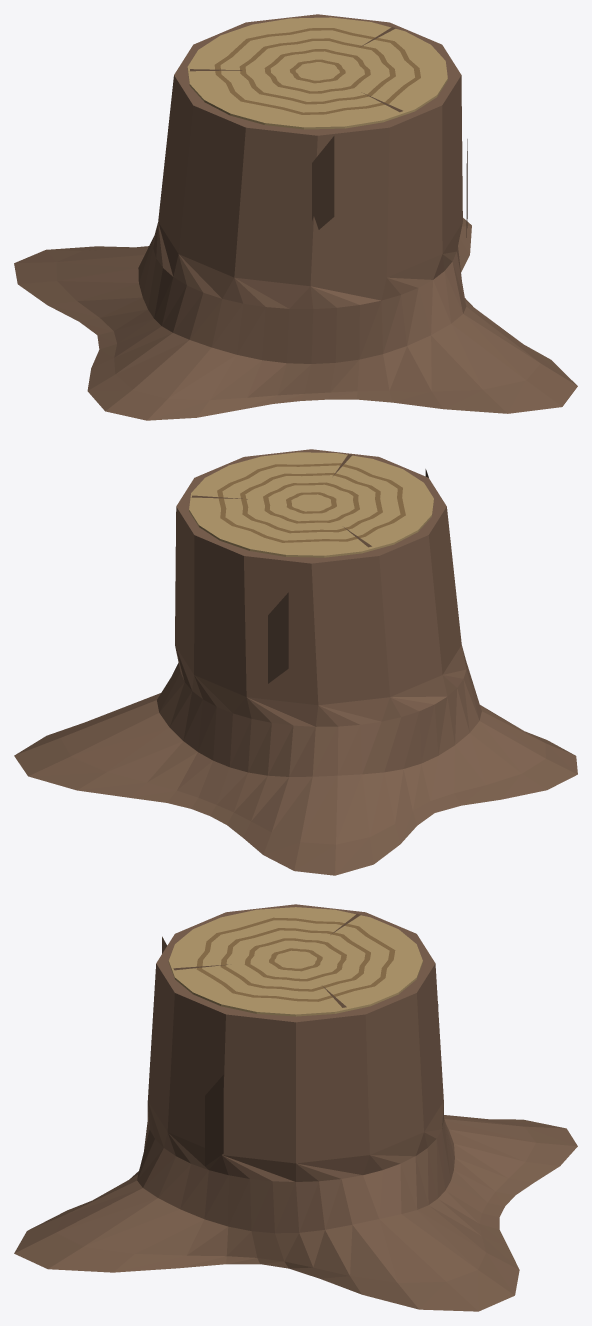
File: maple_stump.glb
The picture shows the model from 3 angles, top to bottom: view 1: azimuth 30°, elevation 25°; view 2: azimuth 150°, elevation 25°; view 3: azimuth 270°, elevation 25°; orthographic projection. The views are drawn at different scales.
Parts seen in each view (by area): view 1: stump, growth_rings; view 2: stump, growth_rings; view 3: stump, growth_rings.
Part boxes in pixels (bbox=[...]): stump: bbox=[14, 14, 577, 420]; growth_rings: bbox=[187, 17, 447, 129]; stump: bbox=[14, 449, 577, 875]; growth_rings: bbox=[189, 452, 433, 557]; stump: bbox=[14, 904, 577, 1311]; growth_rings: bbox=[168, 907, 422, 1016].
Size of the model in its own units: 0.9434 by 0.488 by 1.01.
